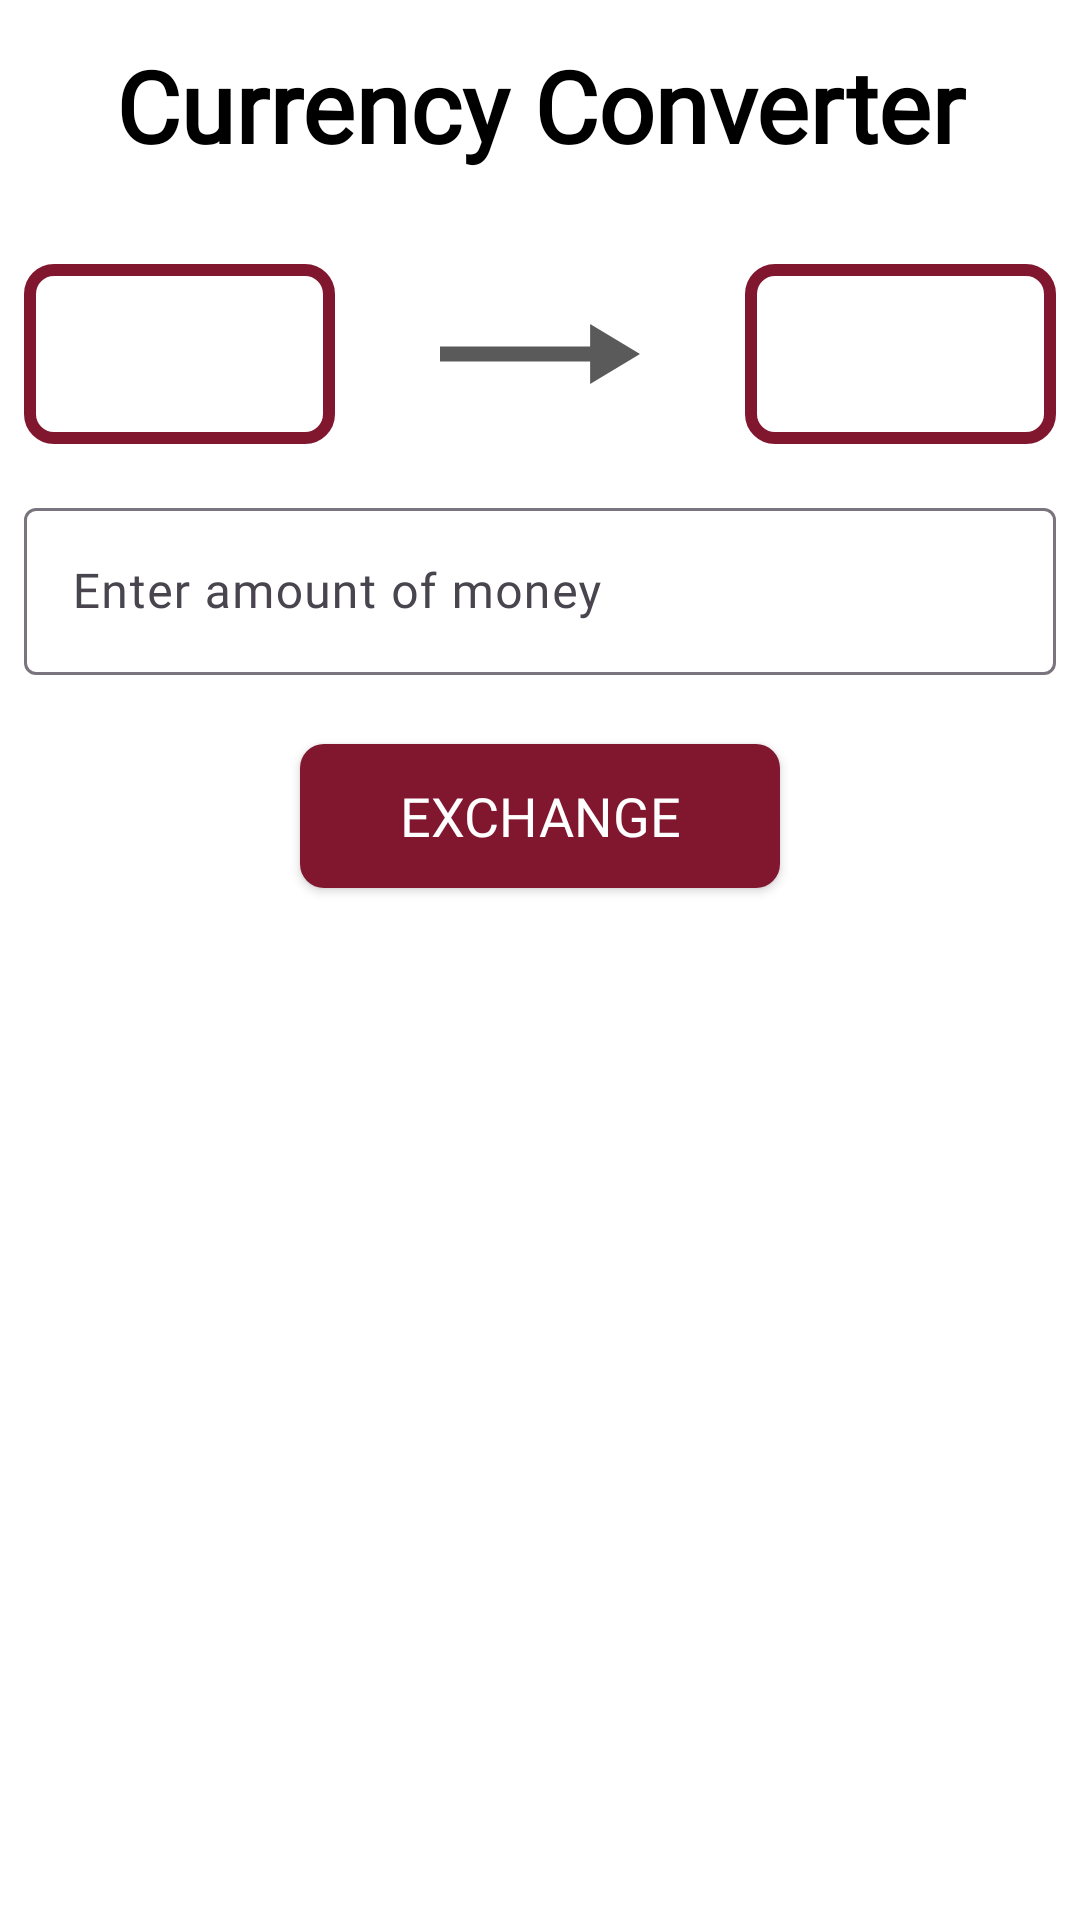

Screen size 1080x1920. Icon name, then its box in pixels as (x1, y1, x2, y2):
Arrow facing right side of screen: (440, 324, 640, 384)
